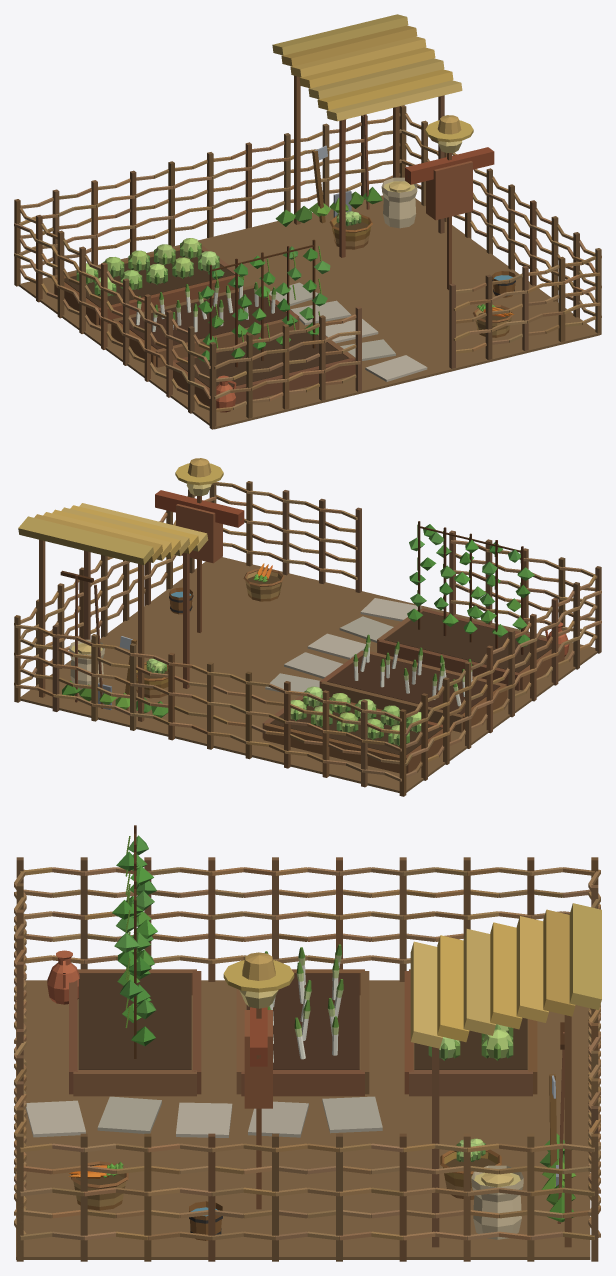
The model's file is mon_ogorod.glb.
The picture shows the model from 3 angles, top to bottom: view 1: azimuth 30°, elevation 25°; view 2: azimuth 150°, elevation 25°; view 3: azimuth 270°, elevation 25°; orthographic projection. The views are drawn at different scales.
Parts seen in each view (by area): view 1: House; view 2: House; view 3: House.
Part boxes in pixels (box(x1,y1,x2,y2)): House: box(14, 14, 601, 429); House: box(14, 458, 601, 796); House: box(14, 825, 601, 1261).
Size of the model in its own units: 3.77 by 1.66 by 3.33.
Materials: 4 (4 with a texture image).
